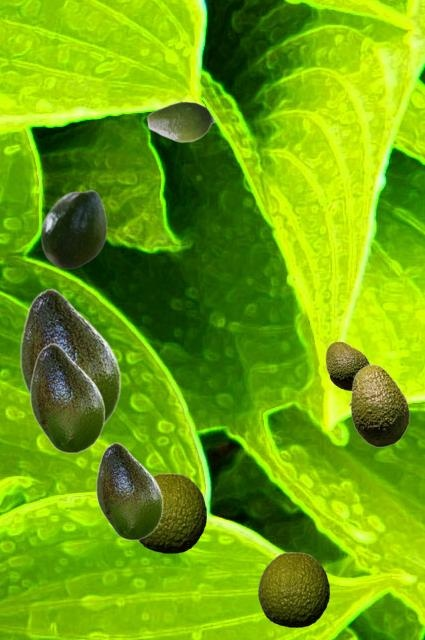avocado: (20, 288, 120, 424), (30, 343, 104, 452), (96, 442, 162, 539), (138, 473, 205, 552), (40, 189, 106, 268), (258, 552, 328, 626), (348, 364, 409, 446), (146, 100, 216, 142), (325, 341, 369, 390)
